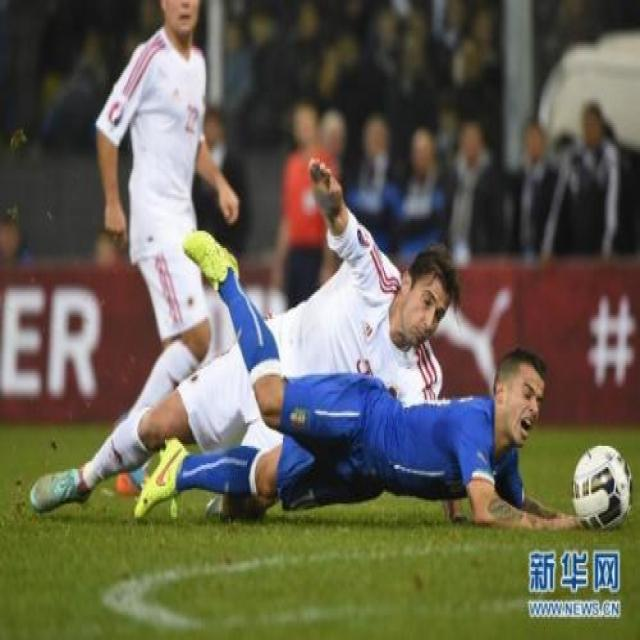10-: (20, 0, 630, 511)
down: (222, 308, 570, 548), (320, 200, 488, 375)
